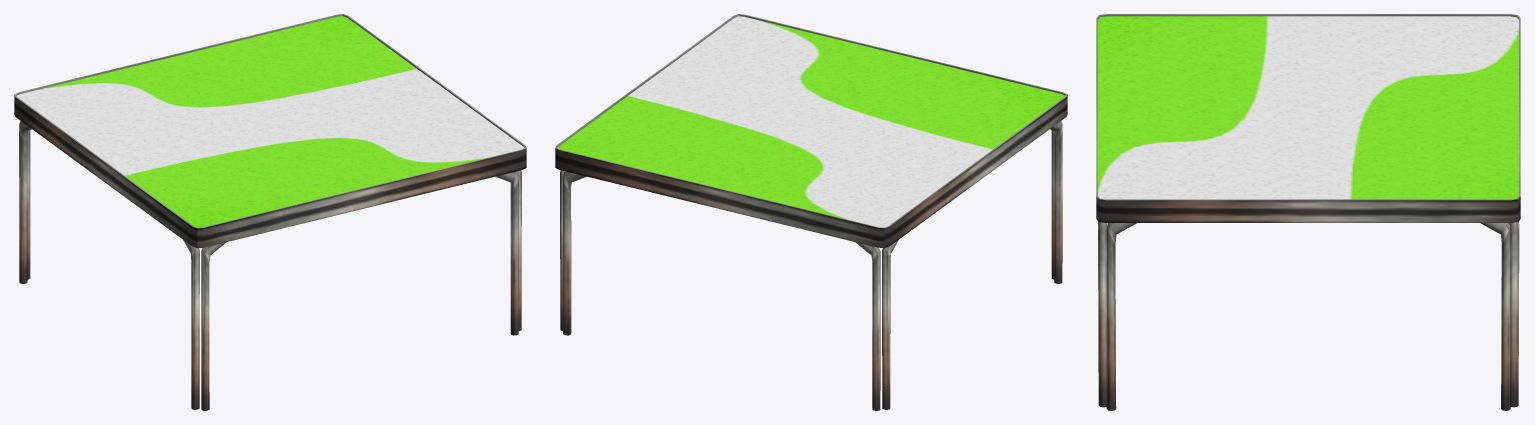
Rendered from Dining_Table_03.FBX.
3 views of the same model, side by side, from view 1: azimuth 30°, elevation 25°; view 2: azimuth 150°, elevation 25°; view 3: azimuth 270°, elevation 25° (orthographic). The views are drawn at different scales.
Visible parts, largest first — view 1: Dining_Table; view 2: Dining_Table; view 3: Dining_Table.
Boxes of the visible parts, box(x1,y1,x2,y2) form: Dining_Table: box(14, 14, 526, 410); Dining_Table: box(555, 14, 1067, 410); Dining_Table: box(1096, 14, 1520, 410).
Bounding box in the file's own units: 264 × 140 × 254.
